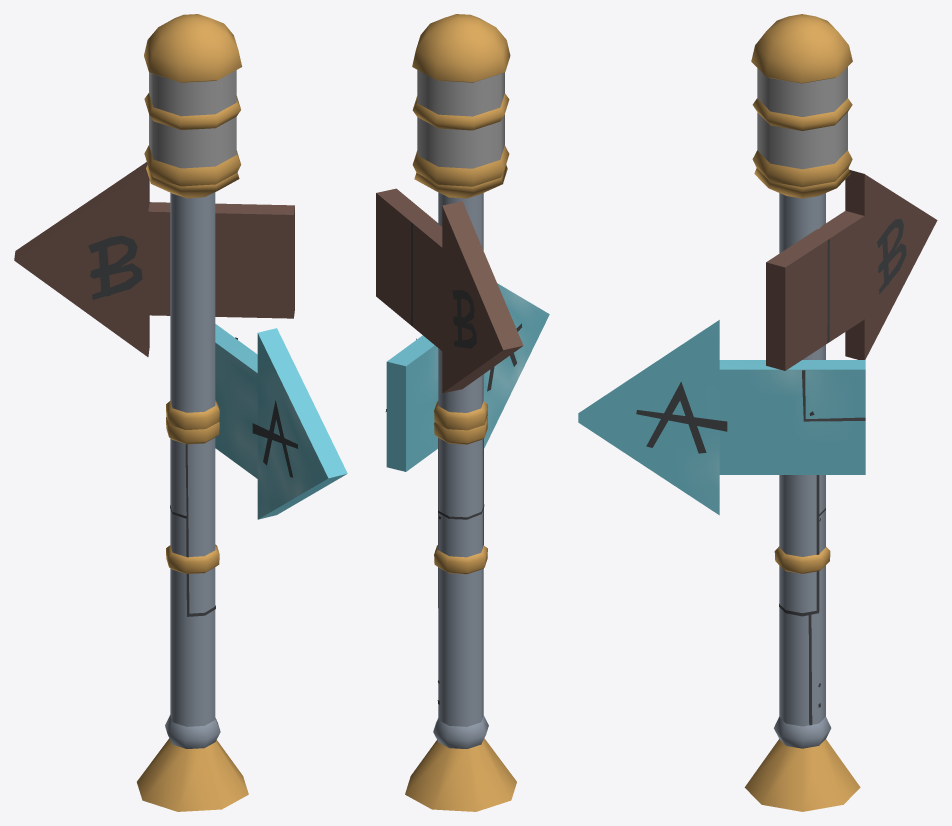
File: BO_Signage_01.fbx
3 renders of one model, left to right at view 1: azimuth 30°, elevation 25°; view 2: azimuth 150°, elevation 25°; view 3: azimuth 270°, elevation 25°, orthographic.
Parts seen in each view (by area): view 1: BR_Signage_01; view 2: BR_Signage_01; view 3: BR_Signage_01.
Part boxes in pixels (left/top/right/bottom): BR_Signage_01: left=14, top=14, right=347, bottom=811; BR_Signage_01: left=376, top=14, right=549, bottom=811; BR_Signage_01: left=578, top=14, right=937, bottom=811.
Size of the model in its own units: 87.37 by 300 by 127.
